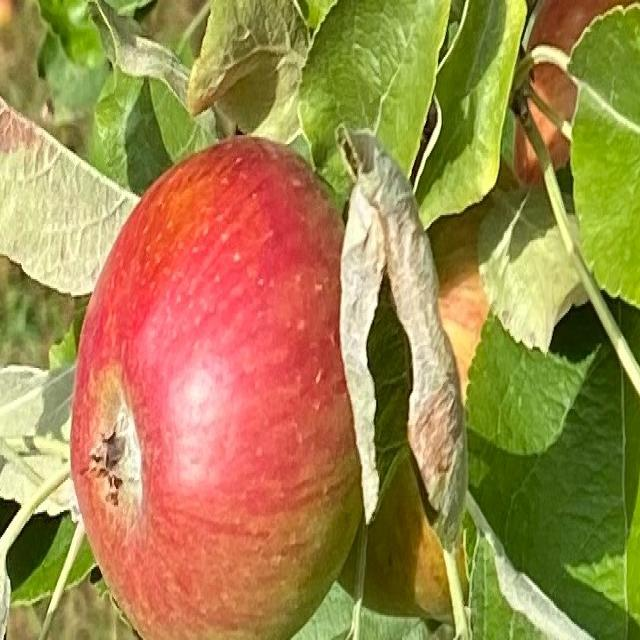100-_ripeness: (71, 140, 364, 640), (376, 196, 508, 618), (513, 2, 629, 183)
